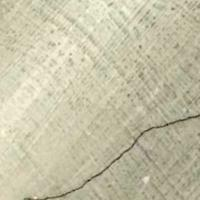crack: (20, 113, 199, 199)
